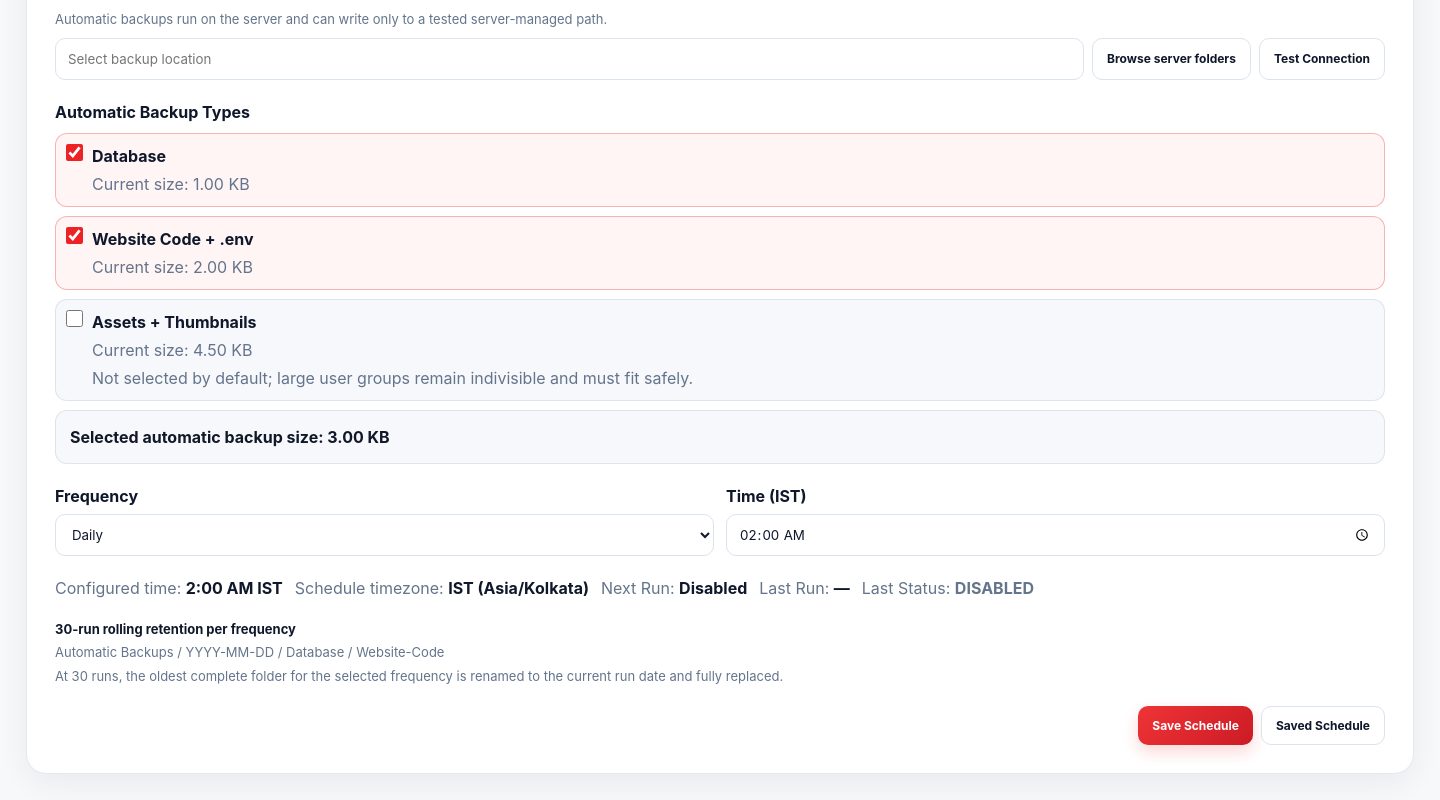
Test: AdminBackupPage › Saved Schedule popup excludes a disabled schedule
(page scrolled)
Click the button "Saved Schedule" at (1323, 726), box [1261,706,1385,745]
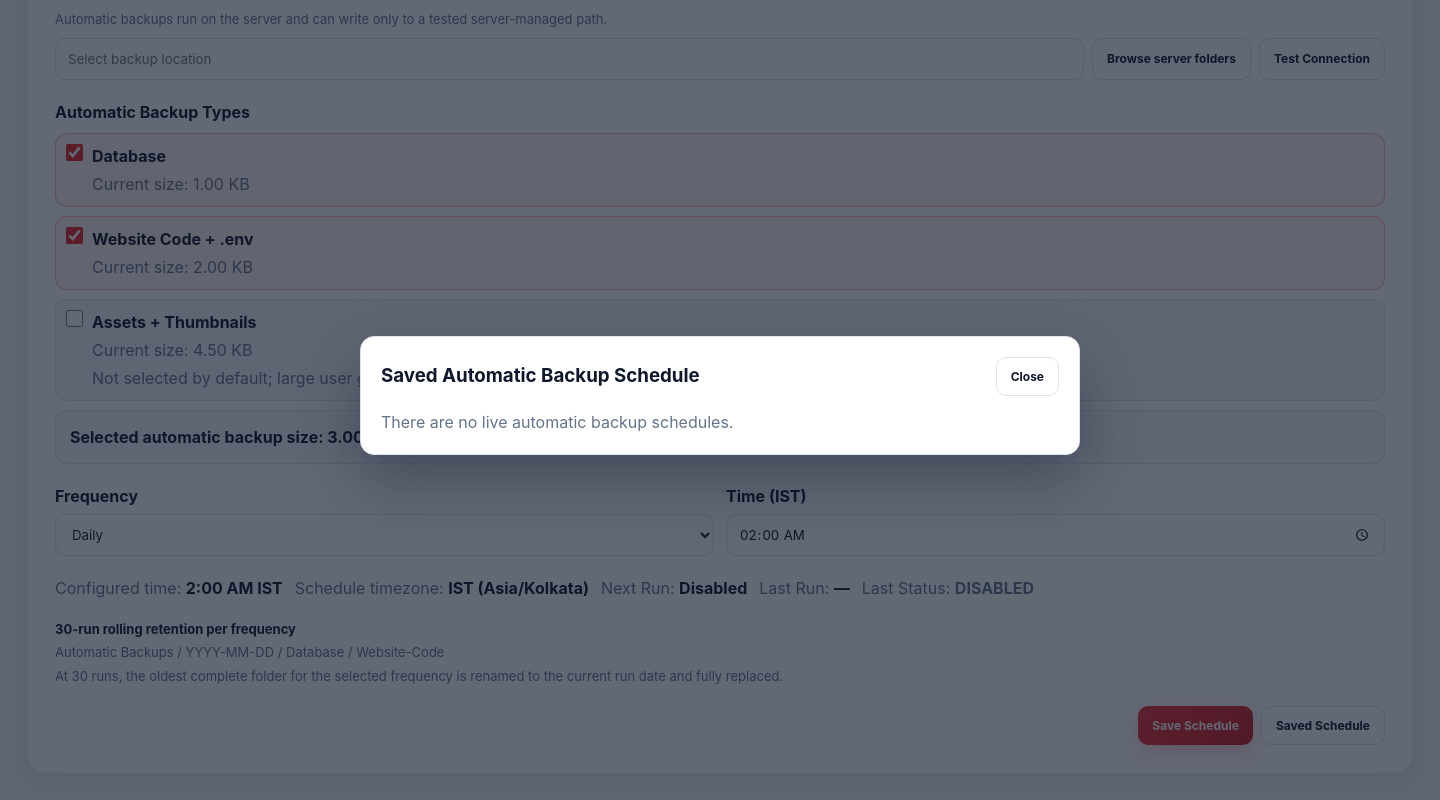
Expected: the dialog "Saved Automatic Backup Schedule" shows "There are no live automatic backup schedules.", [381,412,734,432]
